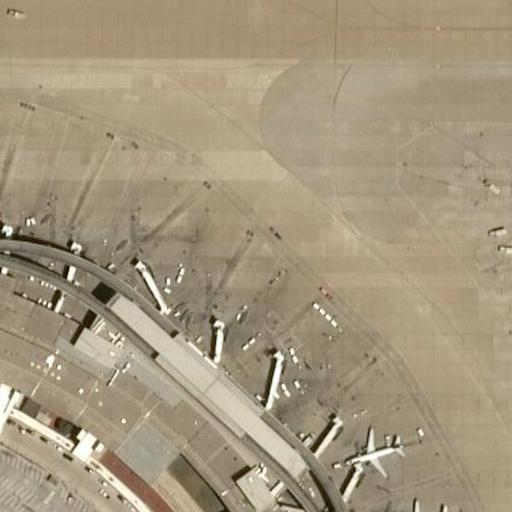Aircraft: (342, 425, 406, 481), (385, 493, 457, 512)
